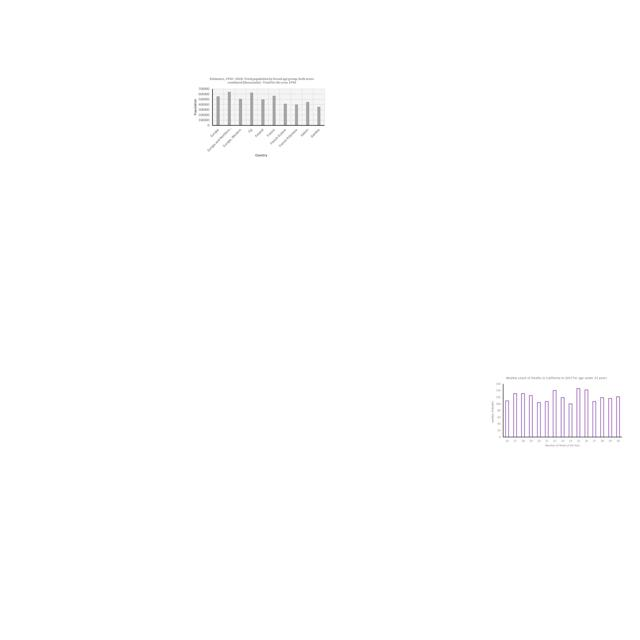Graph: (189, 75, 327, 158), (488, 374, 624, 450)
